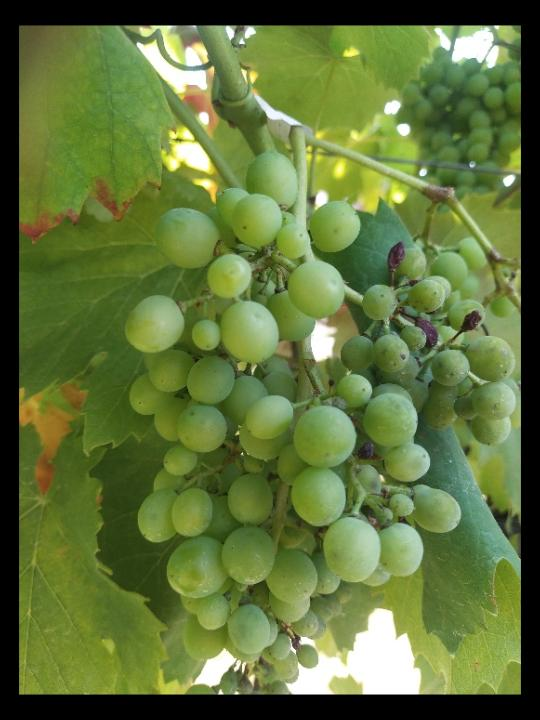grape: (122, 144, 515, 682)
